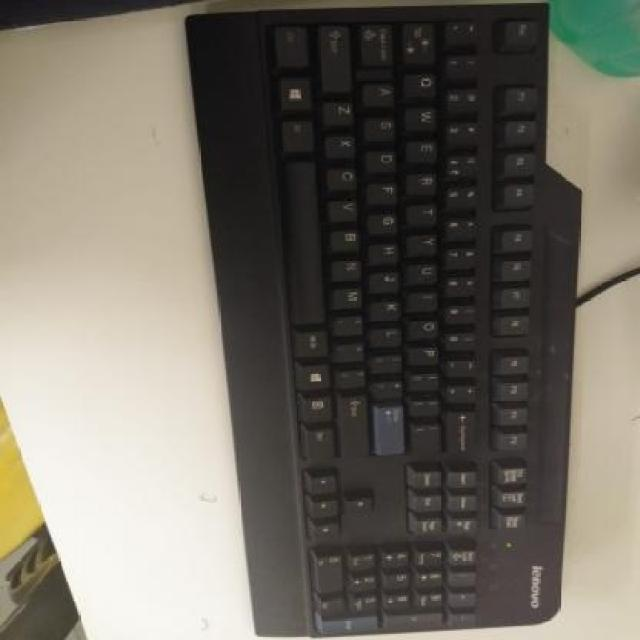keyboard: (181, 3, 547, 637)
